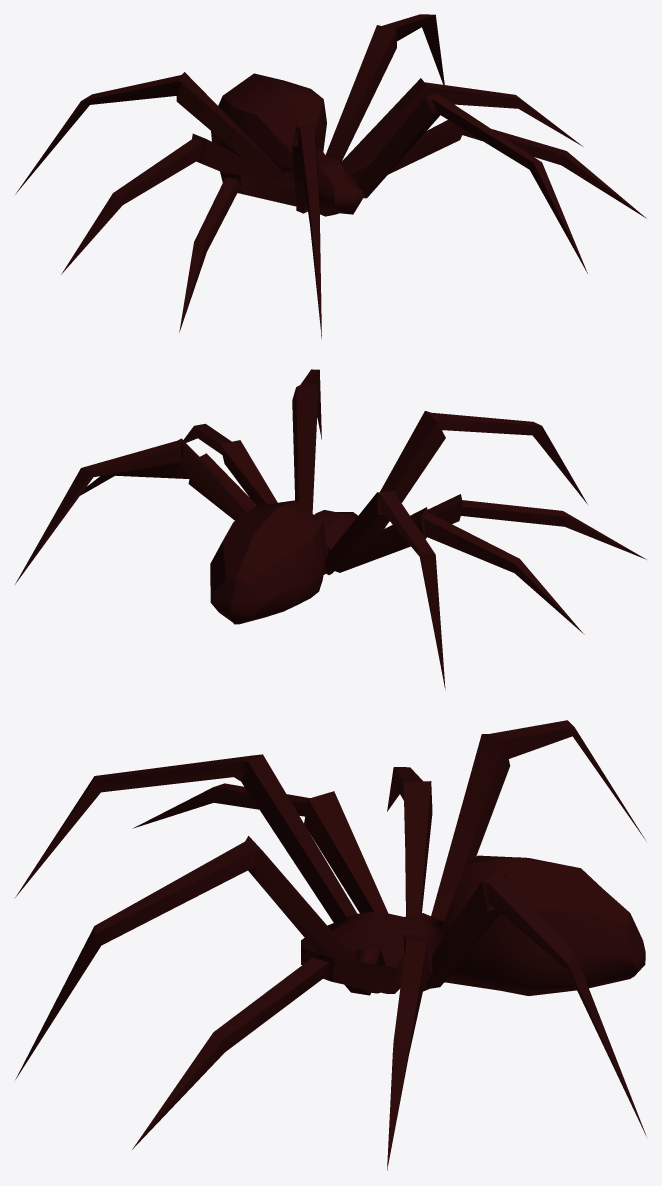
File: Spider.fbx
3 views of the same model, one above another, from view 1: azimuth 30°, elevation 25°; view 2: azimuth 150°, elevation 25°; view 3: azimuth 270°, elevation 25° (orthographic). The views are drawn at different scales.
Visible parts, largest first — view 1: Spider; view 2: Spider; view 3: Spider.
Boxes of the visible parts, left/top/right/bottom form: Spider: left=15, top=14, right=646, bottom=338; Spider: left=15, top=369, right=646, bottom=690; Spider: left=14, top=720, right=646, bottom=1170.
Bounding box in the file's own units: 1287 × 322 × 959.
